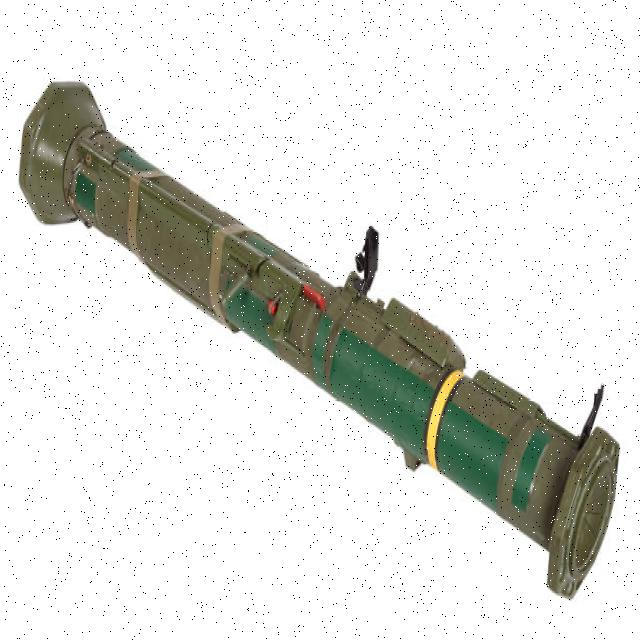bazooka: (16, 63, 630, 613)
